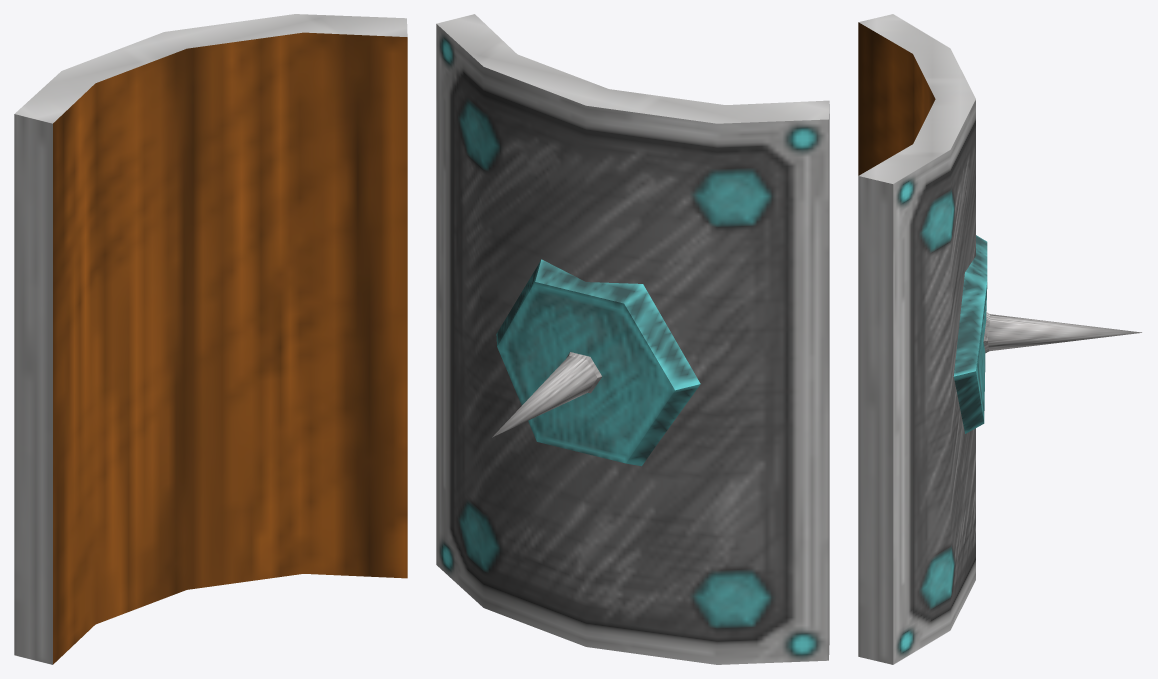
The model's file is humanShield3.fbx.
3 views of the same model, side by side, from view 1: azimuth 30°, elevation 25°; view 2: azimuth 150°, elevation 25°; view 3: azimuth 270°, elevation 25° (orthographic). The views are drawn at different scales.
Parts seen in each view (by area): view 1: humanShield3; view 2: humanShield3; view 3: humanShield3.
Boxes of the visible parts, x1=… form: humanShield3: x1=14, y1=14, x2=407, y2=664; humanShield3: x1=436, y1=14, x2=829, y2=664; humanShield3: x1=858, y1=14, x2=1141, y2=664.
Size of the model in its own units: 2.76 by 3.63 by 1.95.
